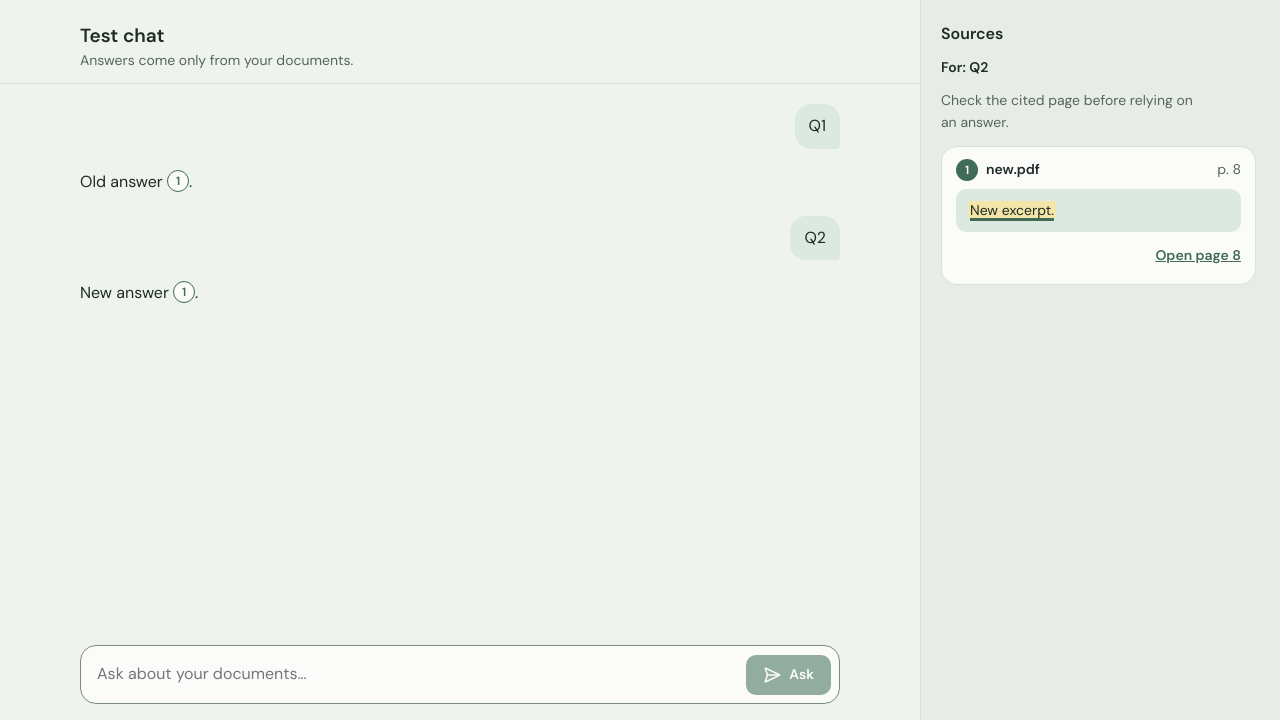
Test: ChatPage › the sources shown belong to the newest answer; a marker in an older answer switches them
This screenshot has width=1280, height=720.
Expected: the text "new.pdf" is shown, [986,160,1040,178]
Step 1. Click the button named "Source 1, old.pdf" → x=178, y=181, box [167,170,189,192]
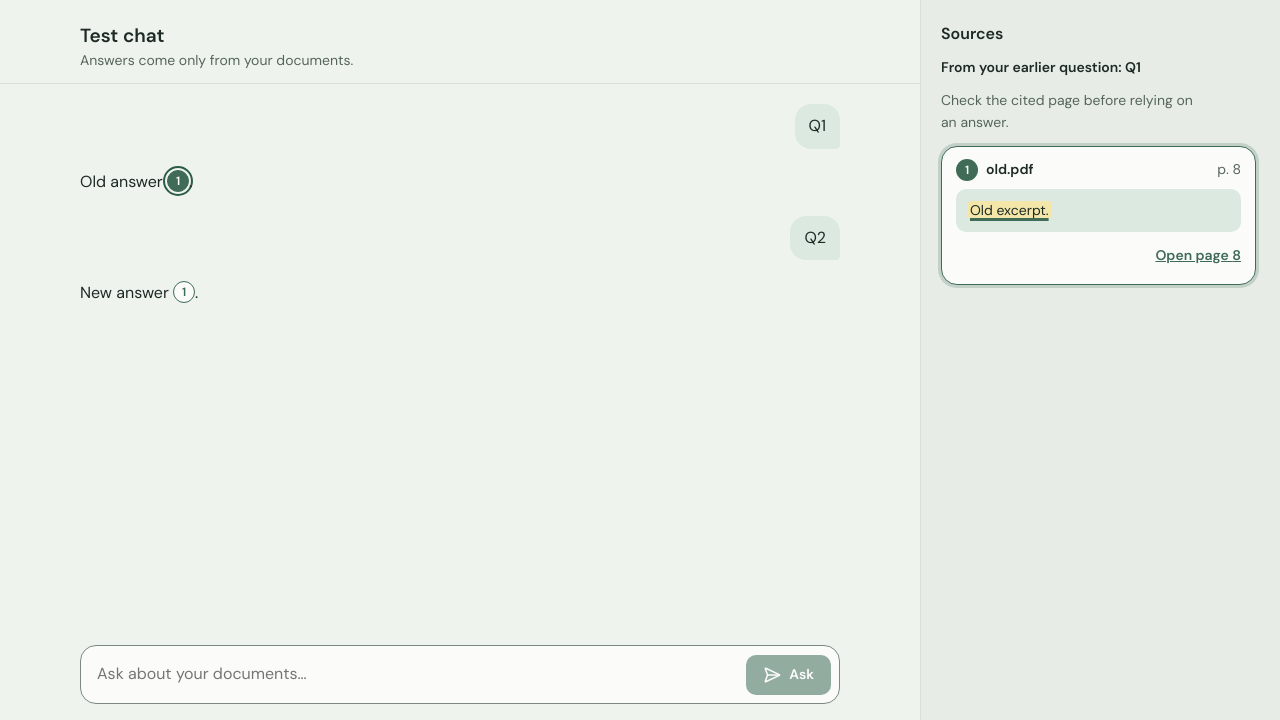
Result: the text "old.pdf" is shown at [986,160,1034,178]
